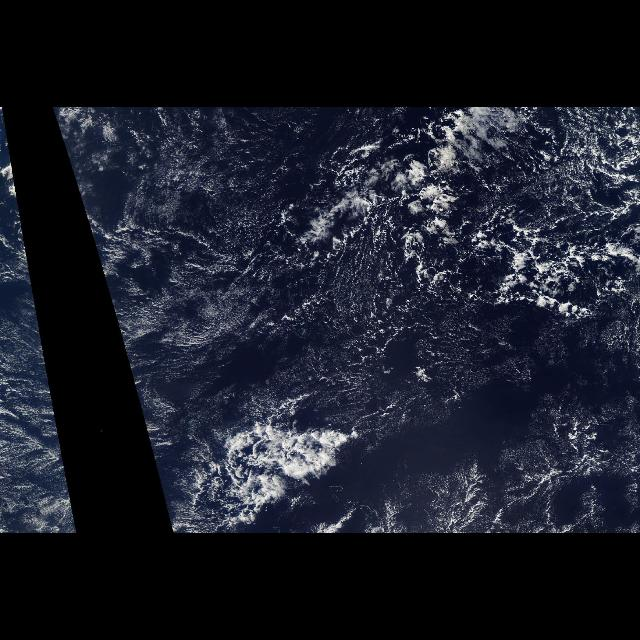Fish: (163, 418, 379, 526)
Gravel: (343, 136, 637, 424)
Sugar: (73, 118, 319, 532), (6, 264, 78, 532)
